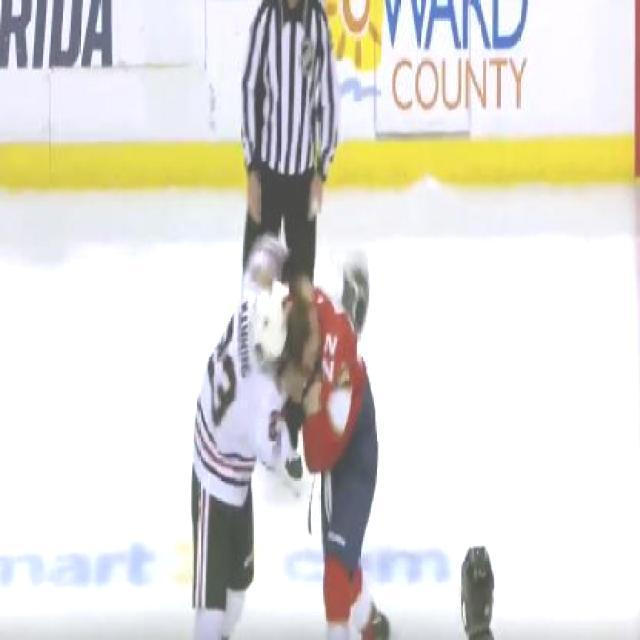fight: (188, 234, 384, 638)
